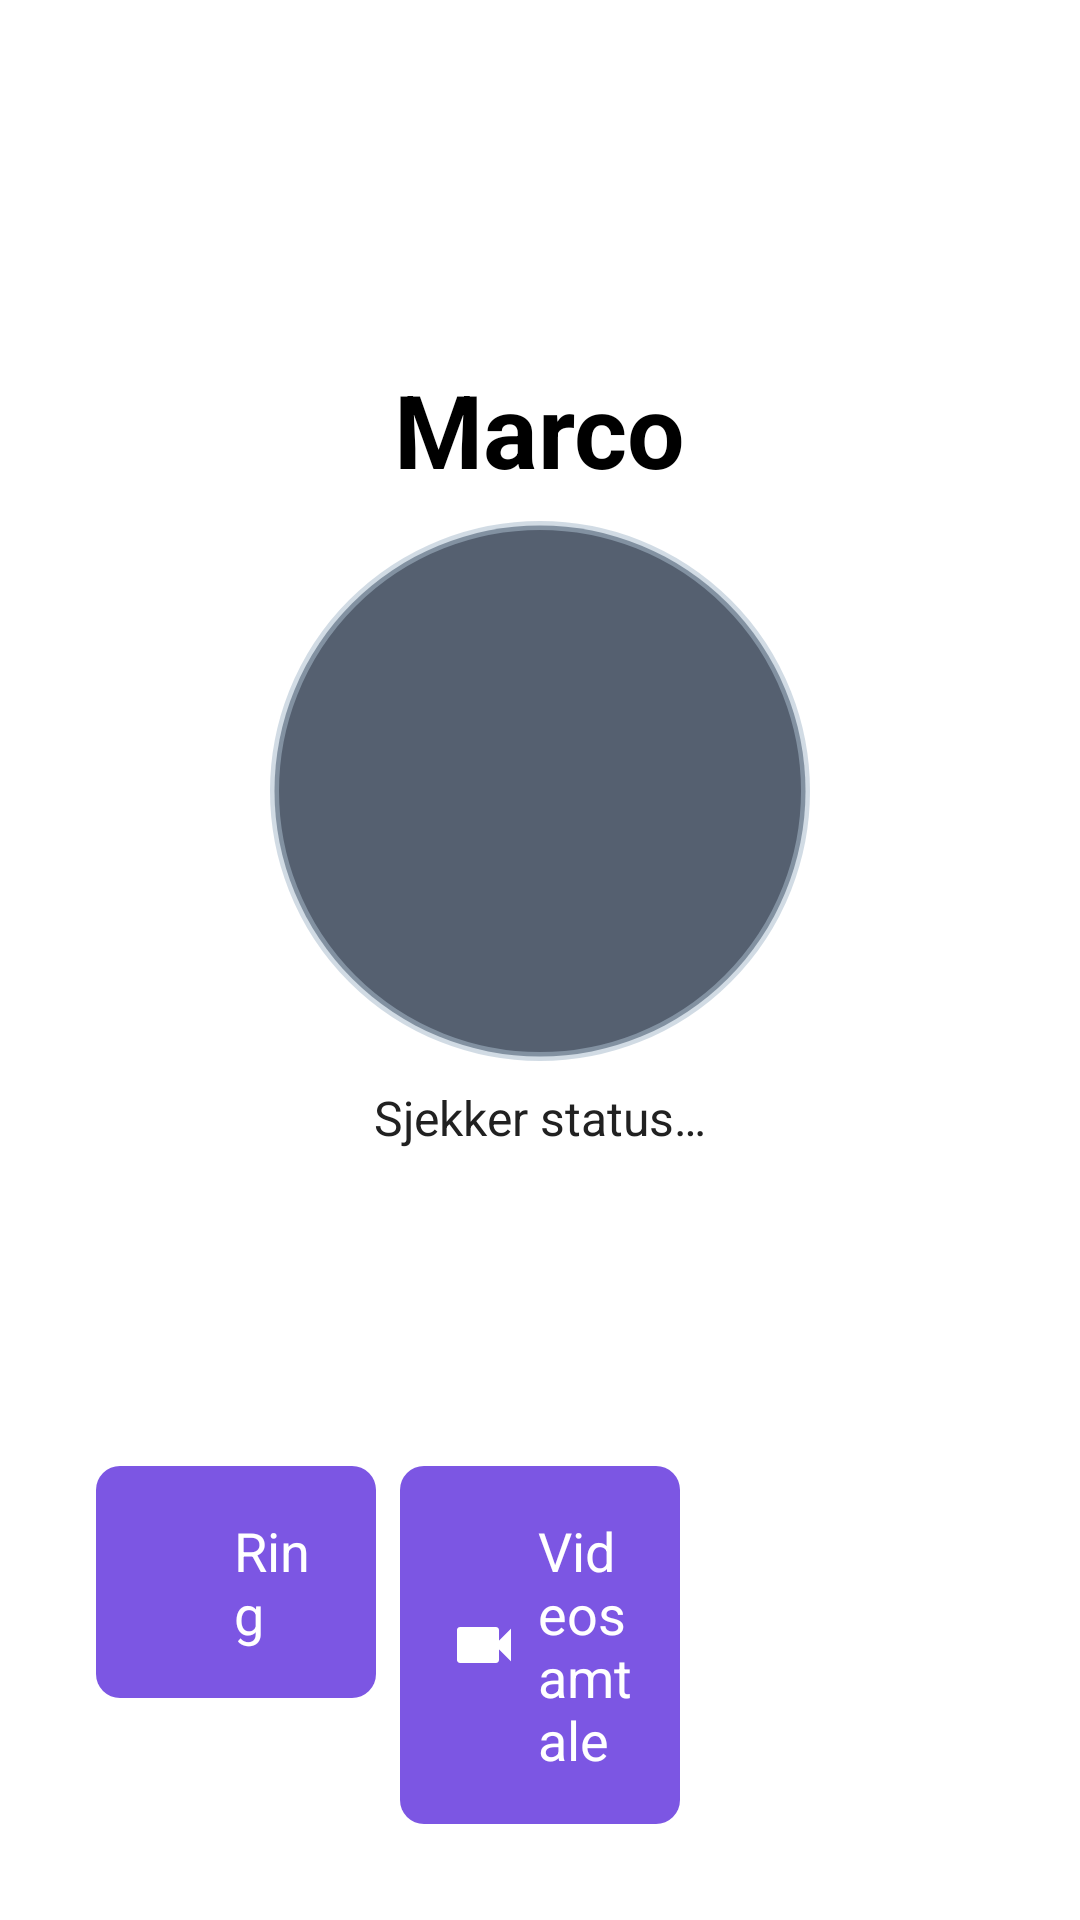

Named icons in this screenshot (1080 × 1920) and their bounding boxes, (x1, y1, x2, y2):
camera on: (457, 1627, 511, 1663)
